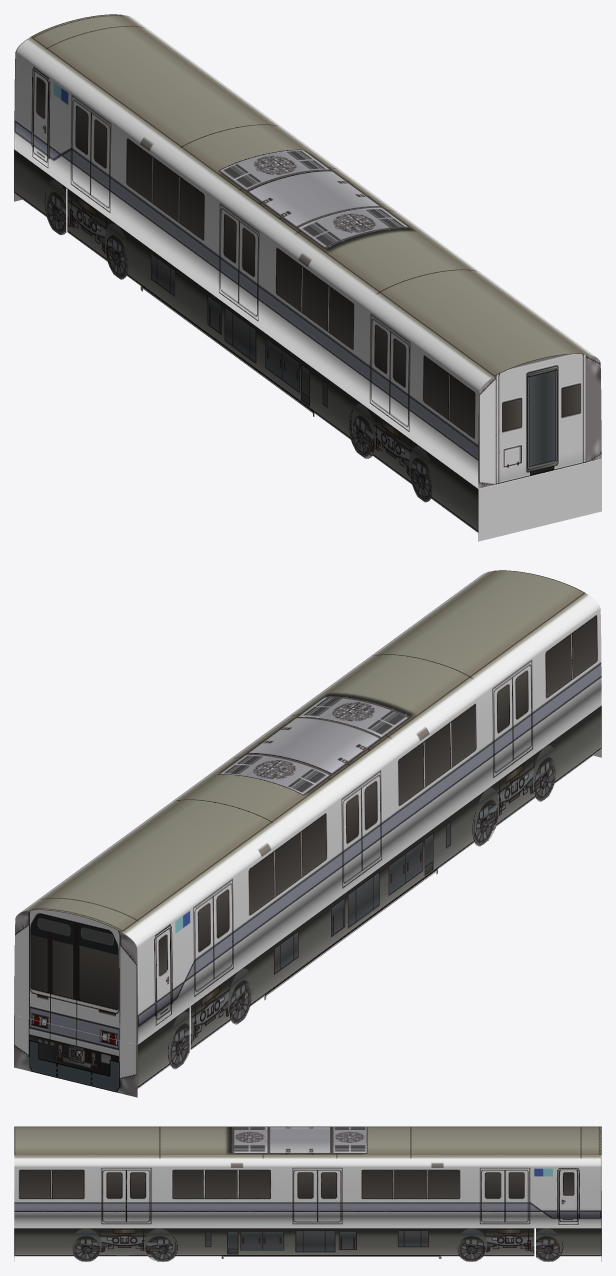
File: car3.glb
3 views of the same model, one above another, from view 1: azimuth 30°, elevation 25°; view 2: azimuth 150°, elevation 25°; view 3: azimuth 270°, elevation 25° (orthographic). The views are drawn at different scales.
Parts seen in each view (by area): view 1: nagano-3000-car3; view 2: nagano-3000-car3; view 3: nagano-3000-car3.
Boxes of the visible parts, box(x1,y1,x2,y2) form: nagano-3000-car3: box(14, 14, 601, 541); nagano-3000-car3: box(14, 570, 601, 1097); nagano-3000-car3: box(14, 1126, 601, 1261).
Bounding box in the file's own units: 2.78 × 3.6 × 18.13.
9 materials, 8 textured.
